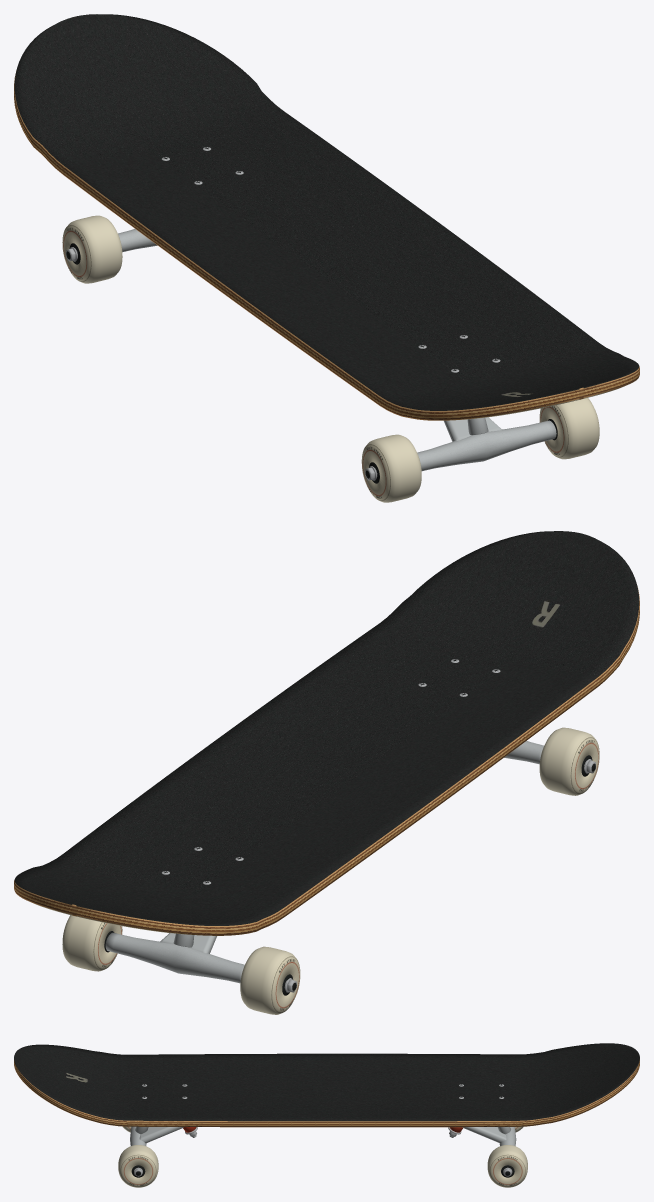
The model's file is skateboard.glb.
The picture shows the model from 3 angles, top to bottom: view 1: azimuth 30°, elevation 25°; view 2: azimuth 150°, elevation 25°; view 3: azimuth 270°, elevation 25°; orthographic projection. The views are drawn at different scales.
Parts seen in each view (by area): view 1: Deck_and_hardware, Truck_Rear, Wheel_Front_Left, Wheel_Rear_Left, Wheel_Rear_Right, Truck_Front; view 2: Deck_and_hardware, Truck_Front, Wheel_Front_Left, Wheel_Rear_Left, Wheel_Front_Right, Truck_Rear; view 3: Deck_and_hardware, Wheel_Rear_Right, Wheel_Front_Right, Truck_Rear, Truck_Front.
Part boxes in pixels (x1,y1,x2,y2): Deck_and_hardware: [14, 14, 639, 420]; Truck_Rear: [365, 417, 556, 480]; Wheel_Front_Left: [62, 215, 122, 283]; Wheel_Rear_Left: [361, 434, 421, 502]; Wheel_Rear_Right: [539, 398, 599, 459]; Truck_Front: [66, 229, 157, 261]; Deck_and_hardware: [14, 531, 639, 935]; Truck_Front: [105, 932, 296, 992]; Wheel_Front_Left: [240, 946, 300, 1014]; Wheel_Rear_Left: [539, 727, 599, 795]; Wheel_Front_Right: [62, 915, 122, 971]; Truck_Rear: [504, 741, 595, 773]; Deck_and_hardware: [14, 1043, 639, 1127]; Wheel_Rear_Right: [118, 1145, 158, 1187]; Wheel_Front_Right: [487, 1145, 527, 1187]; Truck_Rear: [130, 1126, 197, 1176]; Truck_Front: [448, 1127, 516, 1176].
Size of the model in its own units: 0.2086 by 0.143 by 0.8102.
Materials: 2 (2 with a texture image).
